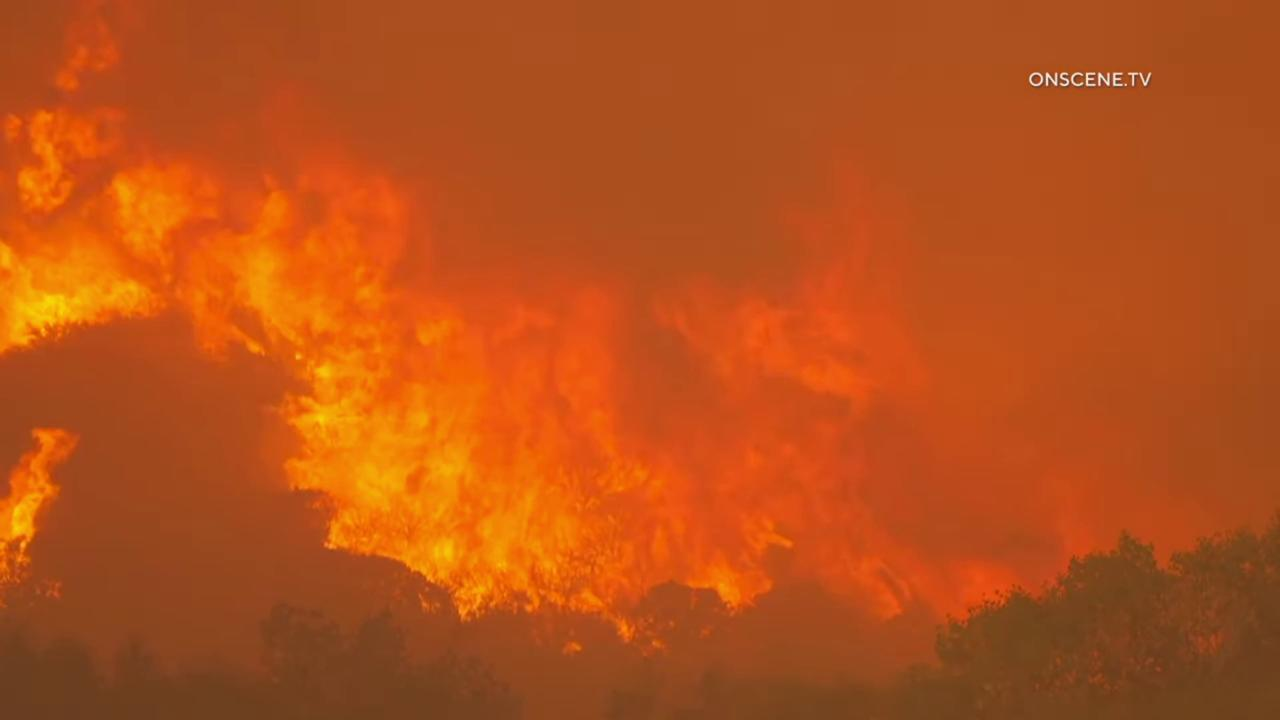fire: (0, 0, 1033, 656), (0, 421, 88, 608)
smoke: (0, 0, 1280, 720)
